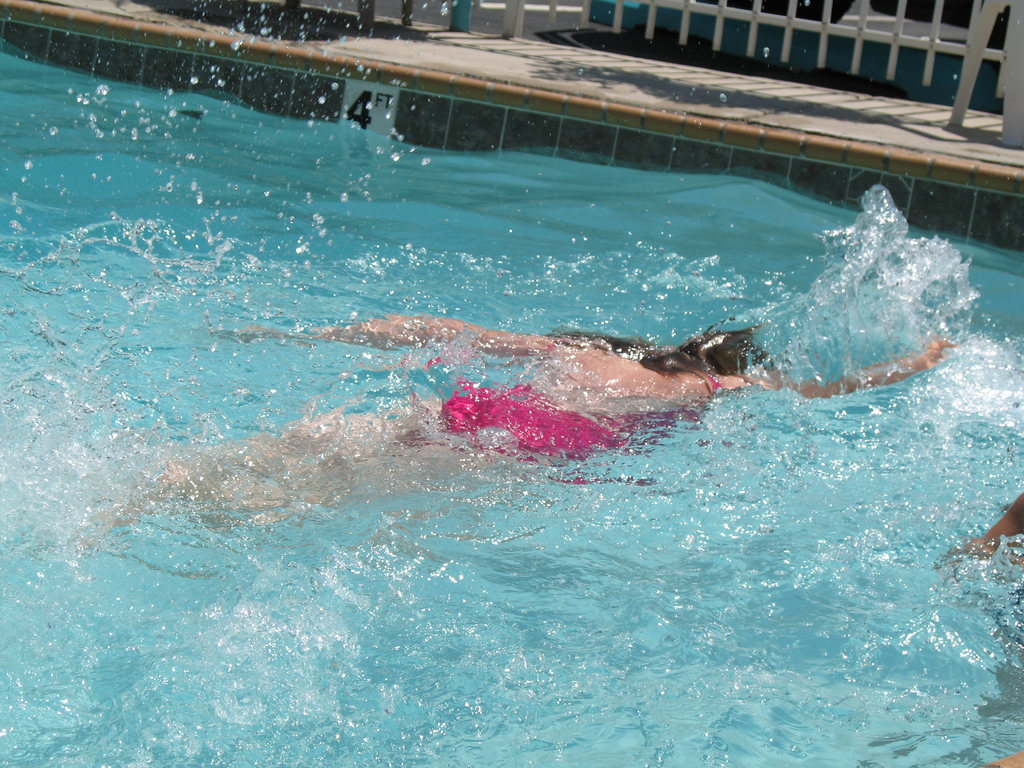Person: (65, 311, 959, 553), (933, 491, 1023, 583)
